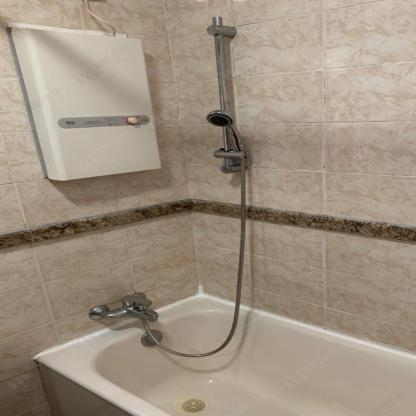Bathtub: (31, 290, 416, 416)
Water Heater: (9, 28, 165, 181)
